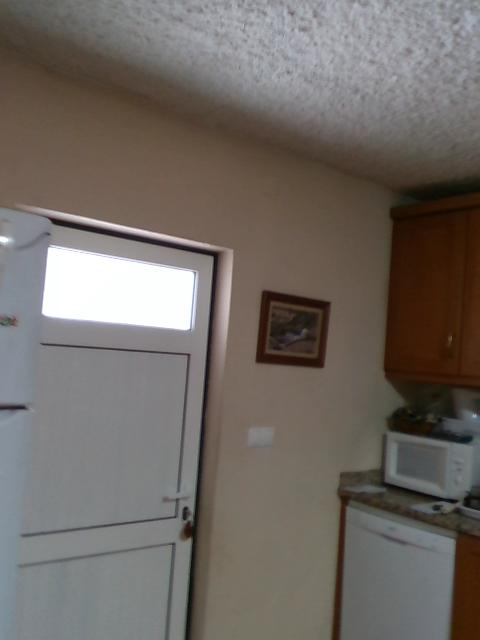door: (20, 225, 212, 639)
